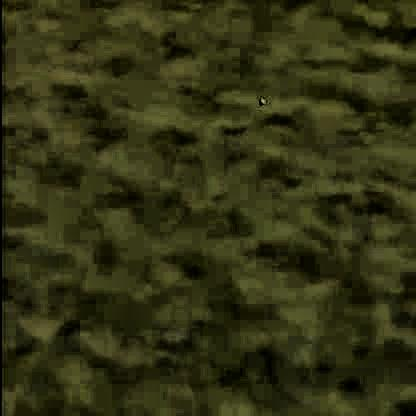golfball: (256, 96, 263, 101)
